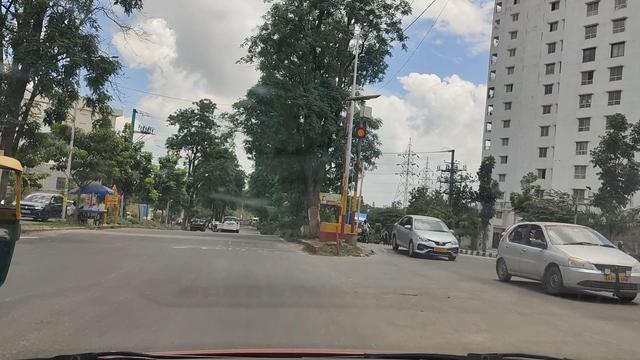LMV: (495, 221, 640, 303), (391, 210, 455, 257)
